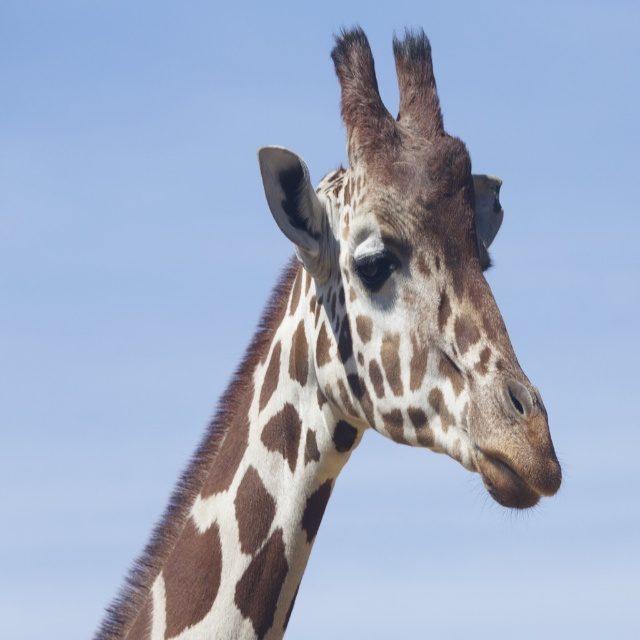Giraffe: (112, 37, 546, 640)
